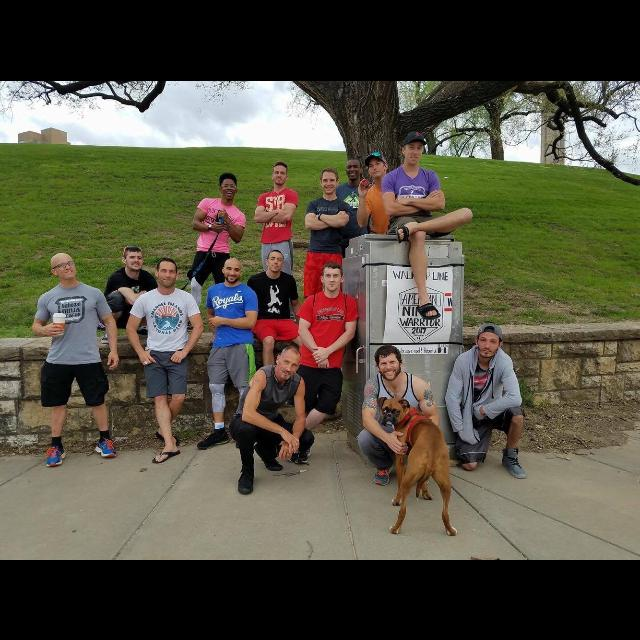head: (474, 324, 504, 358), (376, 346, 404, 380), (276, 345, 302, 381), (320, 260, 346, 292), (154, 256, 180, 288), (50, 252, 78, 278), (402, 136, 426, 166), (222, 257, 244, 283), (366, 153, 389, 177), (122, 246, 144, 270), (320, 167, 340, 193), (220, 175, 240, 199), (265, 248, 285, 272), (344, 157, 364, 180), (272, 160, 290, 184)
person: (31, 248, 123, 468), (384, 129, 474, 321), (125, 253, 205, 464), (287, 258, 359, 447), (444, 323, 530, 481), (355, 342, 443, 488), (228, 342, 312, 494), (196, 255, 258, 451), (178, 170, 248, 336), (356, 152, 410, 320), (304, 166, 354, 340), (244, 244, 302, 392), (254, 160, 300, 342), (94, 242, 166, 346), (333, 157, 379, 311)
